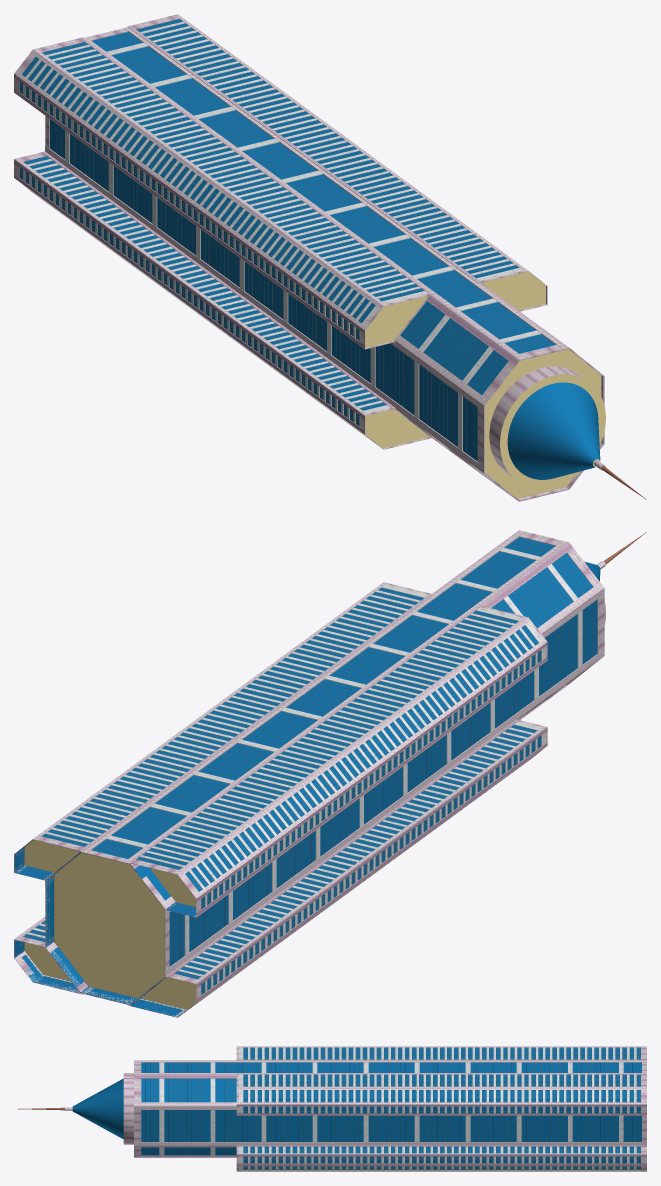
Rendered from Sky037.obj.
3 views of the same model, one above another, from view 1: azimuth 30°, elevation 25°; view 2: azimuth 150°, elevation 25°; view 3: azimuth 270°, elevation 25° (orthographic). The views are drawn at different scales.
Parts seen in each view (by area): view 1: glaz_02, wall_1_01, glaz_01, wall_02, frame_01, slab_01, wall_01, glaz_04, wall_05, wall_2_01, wall_04, wall_03; view 2: glaz_02, wall_1_01, glaz_01, wall_02, slab_01, frame_01, wall_01, wall_05; view 3: glaz_01, glaz_02, wall_1_01, wall_02, frame_01, wall_01, glaz_04, wall_05, wall_2_01, wall_04, wall_03.
Boxes of the visible parts, x1=… form: glaz_02: x1=19, y1=19, x2=518, y2=431; wall_1_01: x1=23, y1=21, x2=541, y2=481; glaz_01: x1=50, y1=32, x2=555, y2=461; wall_02: x1=14, y1=14, x2=526, y2=445; frame_01: x1=19, y1=20, x2=552, y2=466; slab_01: x1=365, y1=271, x2=605, y2=498; wall_01: x1=45, y1=27, x2=566, y2=497; glaz_04: x1=507, y1=382, x2=600, y2=479; wall_05: x1=14, y1=15, x2=604, y2=501; wall_2_01: x1=489, y1=366, x2=584, y2=477; wall_04: x1=481, y1=346, x2=603, y2=500; wall_03: x1=363, y1=270, x2=546, y2=449; glaz_02: x1=14, y1=587, x2=541, y2=1017; wall_1_01: x1=23, y1=547, x2=582, y2=1010; glaz_01: x1=46, y1=537, x2=597, y2=1004; wall_02: x1=14, y1=583, x2=545, y2=1017; slab_01: x1=24, y1=533, x2=605, y2=1009; frame_01: x1=19, y1=540, x2=593, y2=1011; wall_01: x1=45, y1=531, x2=602, y2=1005; wall_05: x1=14, y1=533, x2=602, y2=1017; glaz_01: x1=141, y1=1062, x2=641, y2=1155; glaz_02: x1=243, y1=1047, x2=640, y2=1169; wall_1_01: x1=159, y1=1047, x2=636, y2=1170; wall_02: x1=238, y1=1046, x2=646, y2=1171; frame_01: x1=145, y1=1048, x2=640, y2=1170; wall_01: x1=136, y1=1060, x2=646, y2=1157; glaz_04: x1=72, y1=1078, x2=123, y2=1139; wall_05: x1=136, y1=1047, x2=646, y2=1170; wall_2_01: x1=123, y1=1073, x2=133, y2=1144; wall_04: x1=134, y1=1060, x2=136, y2=1157; wall_03: x1=236, y1=1046, x2=238, y2=1171.
Size of the model in its own units: 2106 by 1582 by 10822.
Materials: 6 (2 with a texture image).
